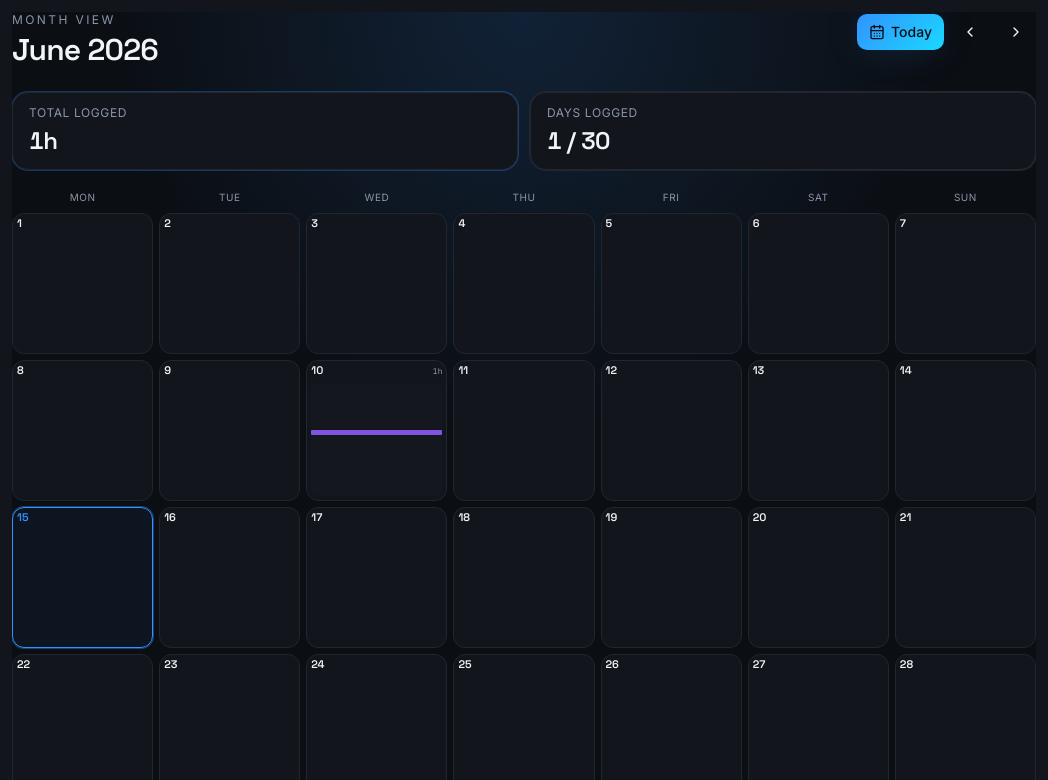
Test: MonthPage › shows a logged-time tooltip on hover
Hover over the picture named "Logged: Team meeting, 10:00 – 11:00" at (377, 433), box [311,430,442,435]
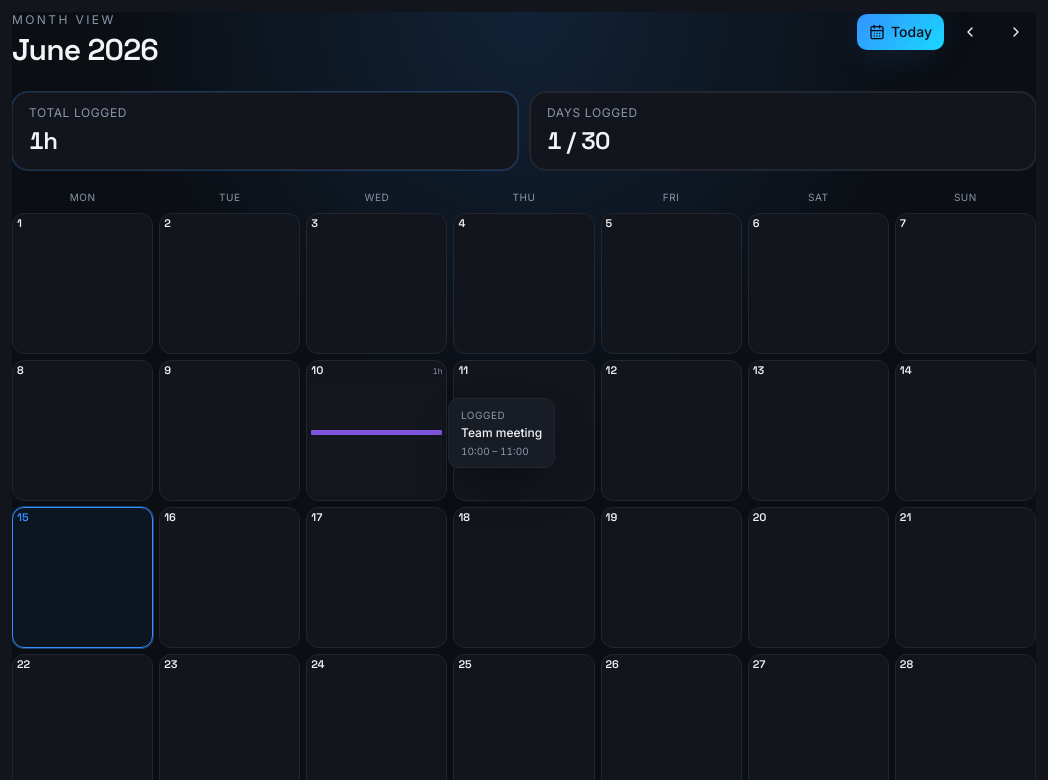
Check: the tooltip with test id "month-segment-tooltip" shows "Logged", box [461,409,505,421]
Check: the tooltip with test id "month-segment-tooltip" shows "Team meeting", box [461,425,542,440]
Check: the tooltip with test id "month-segment-tooltip" shows "10:00", box [461,445,490,457]
